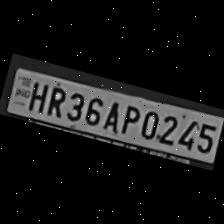0: (134, 106, 162, 142)
2: (154, 111, 181, 147)
3: (60, 86, 86, 124)
4: (172, 113, 198, 150)
5: (190, 119, 219, 156)
6: (79, 92, 107, 128)
A: (100, 97, 124, 132)
H: (22, 76, 50, 113)
P: (116, 100, 142, 137)
R: (40, 81, 68, 118)
